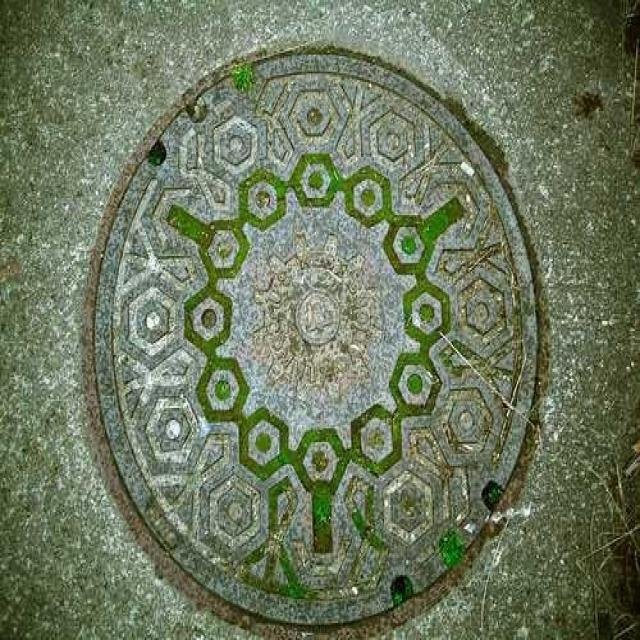manhole: (90, 52, 538, 626)
